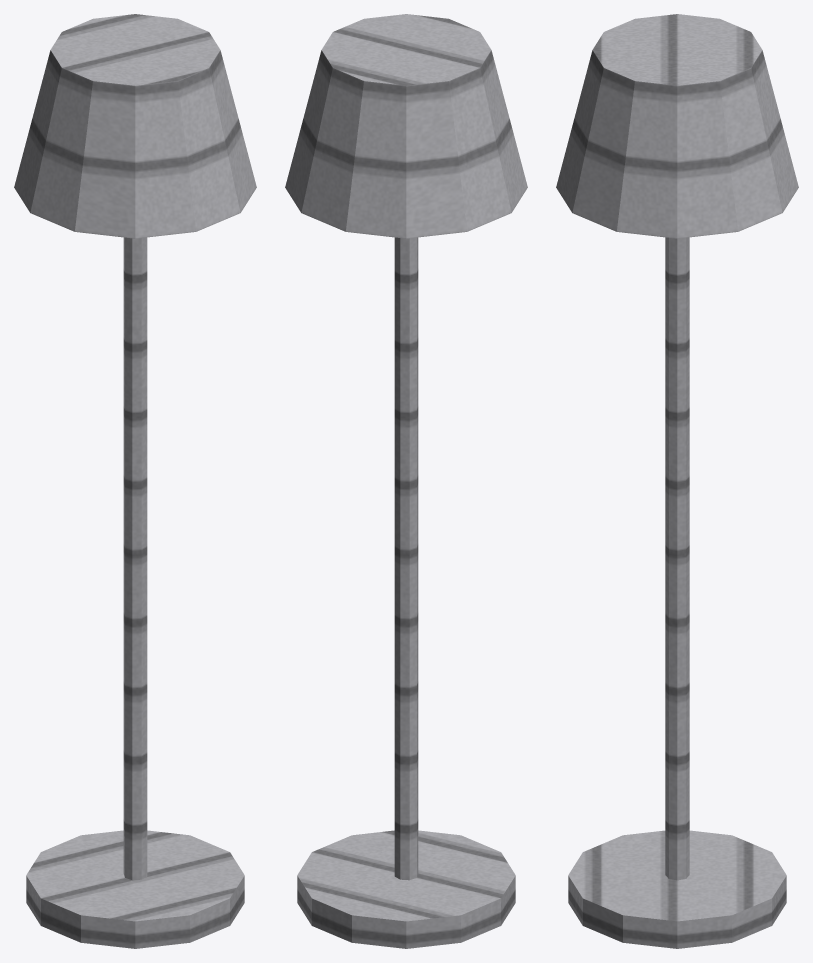
Rendered from floor_lamp.glb.
The picture shows the model from 3 angles, left to right: view 1: azimuth 30°, elevation 25°; view 2: azimuth 150°, elevation 25°; view 3: azimuth 270°, elevation 25°; orthographic projection.
Visible parts, largest first — view 1: floor_lamp-col; view 2: floor_lamp-col; view 3: floor_lamp-col.
Part boxes in pixels (left/top/right/bottom): floor_lamp-col: left=14, top=14, right=256, bottom=948; floor_lamp-col: left=285, top=14, right=527, bottom=948; floor_lamp-col: left=556, top=14, right=798, bottom=948.
Bounding box in the file's own units: 0.4 × 1.55 × 0.4.
1 material, 1 textured.
